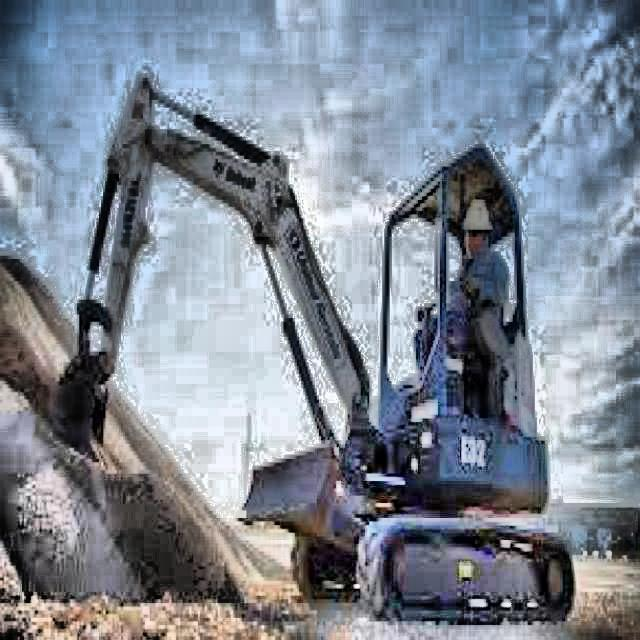bull_dozer/loader/grader: (46, 70, 578, 629)
person: (412, 194, 510, 422)
